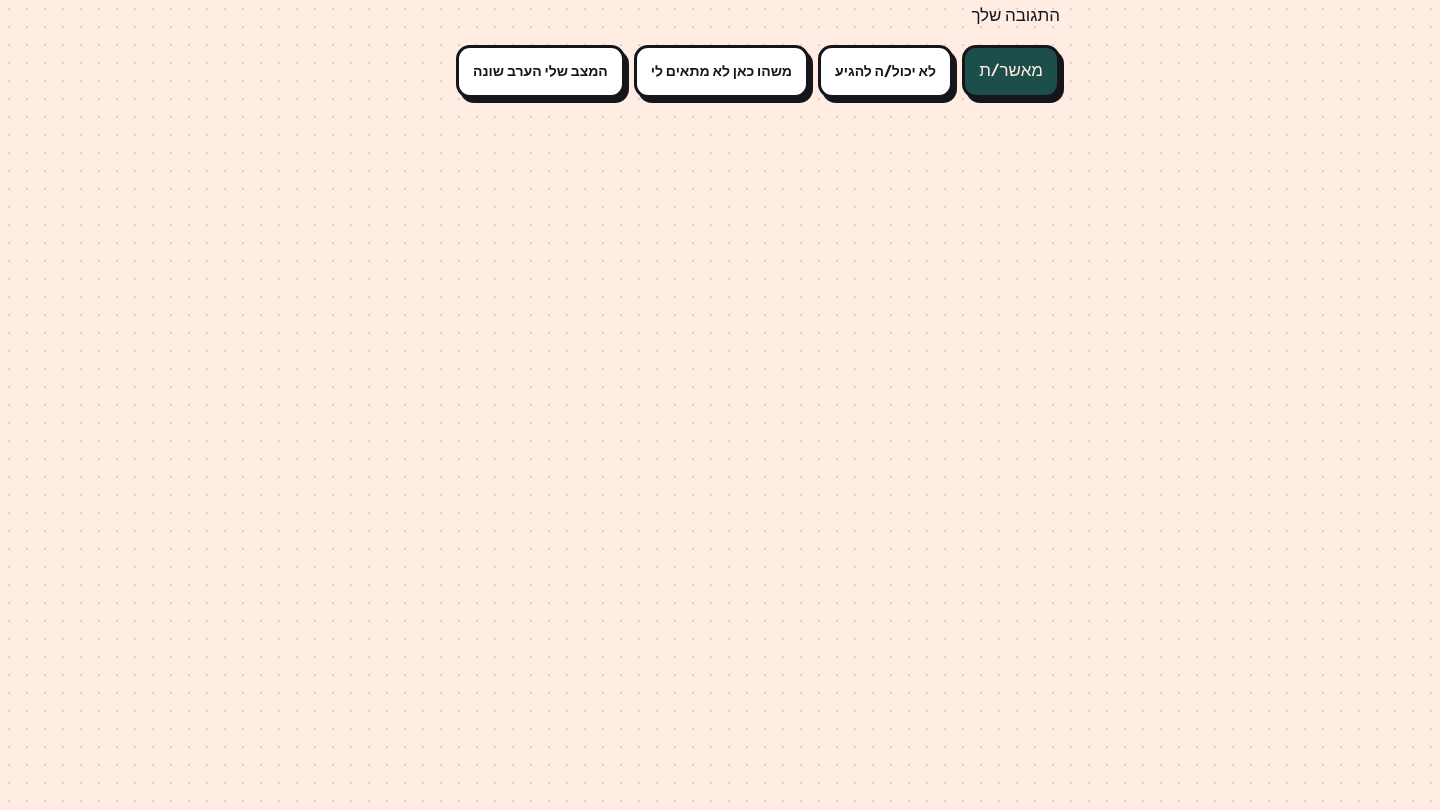
Scenario: not every style of place can be ruled out
Click the button "משהו כאן לא מתאים לי" at (721, 71), box [634,44,809,98]
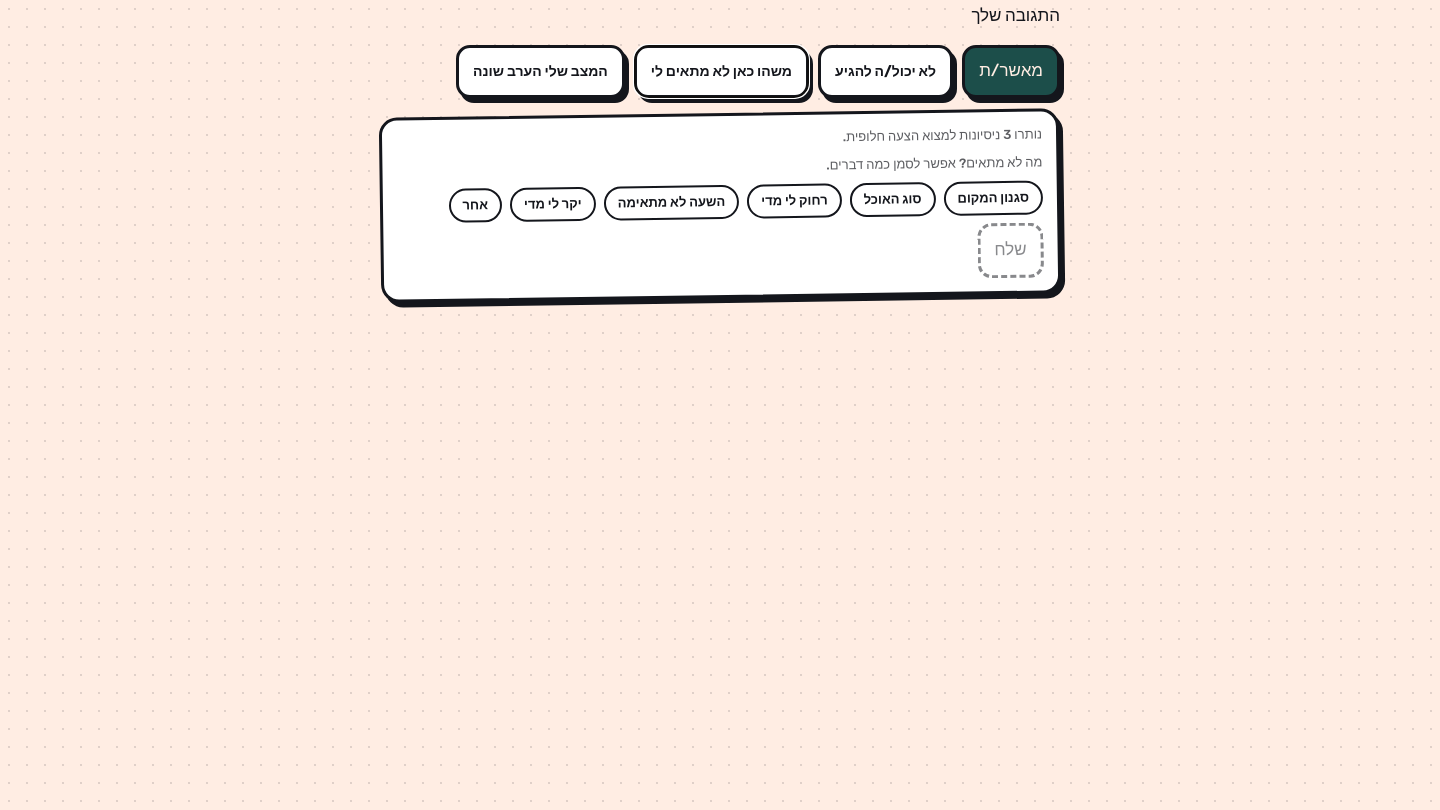
Click the button "סגנון המקום" at (993, 199), box [943,181,1043,216]
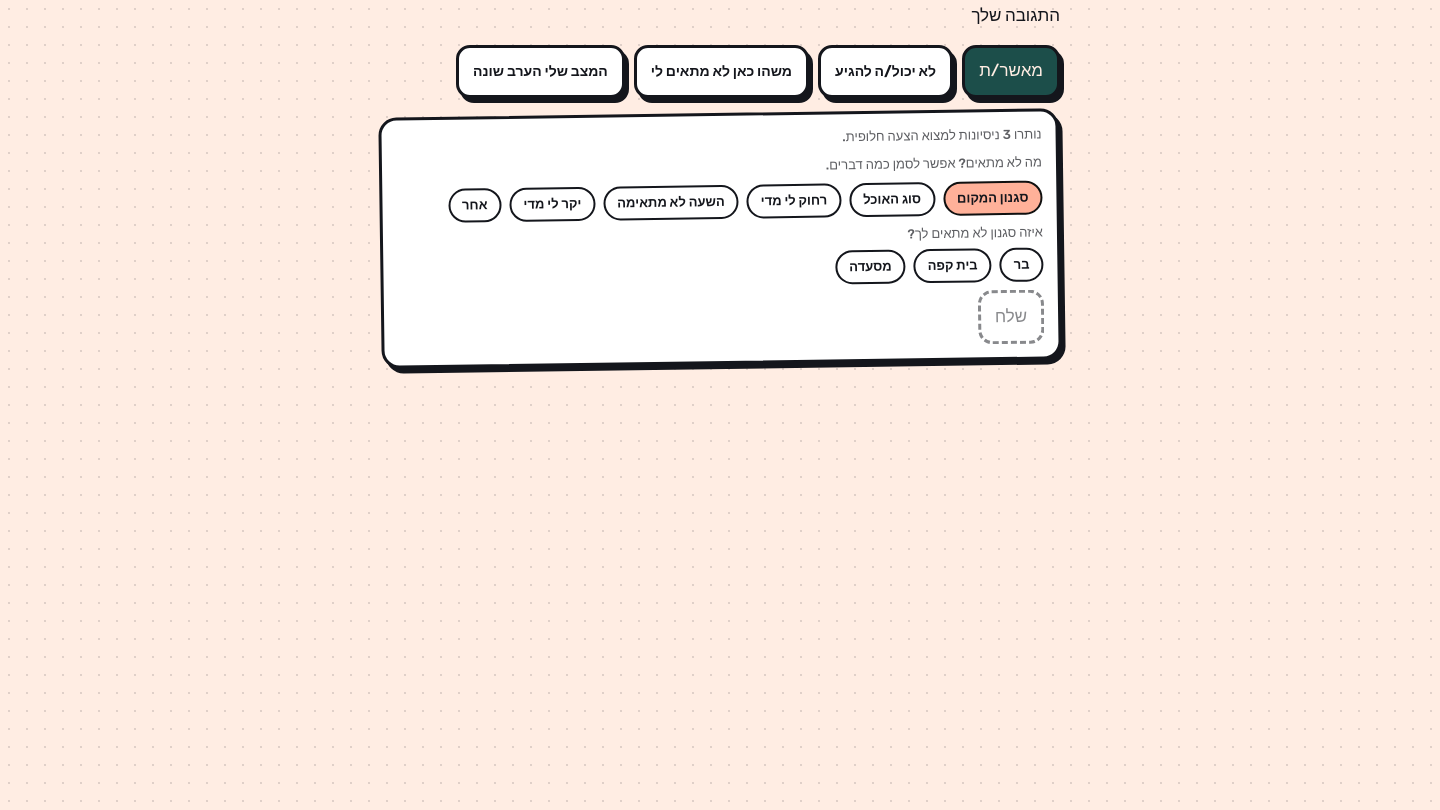
Click the button "בר" at (1021, 264), box [999,247,1044,282]
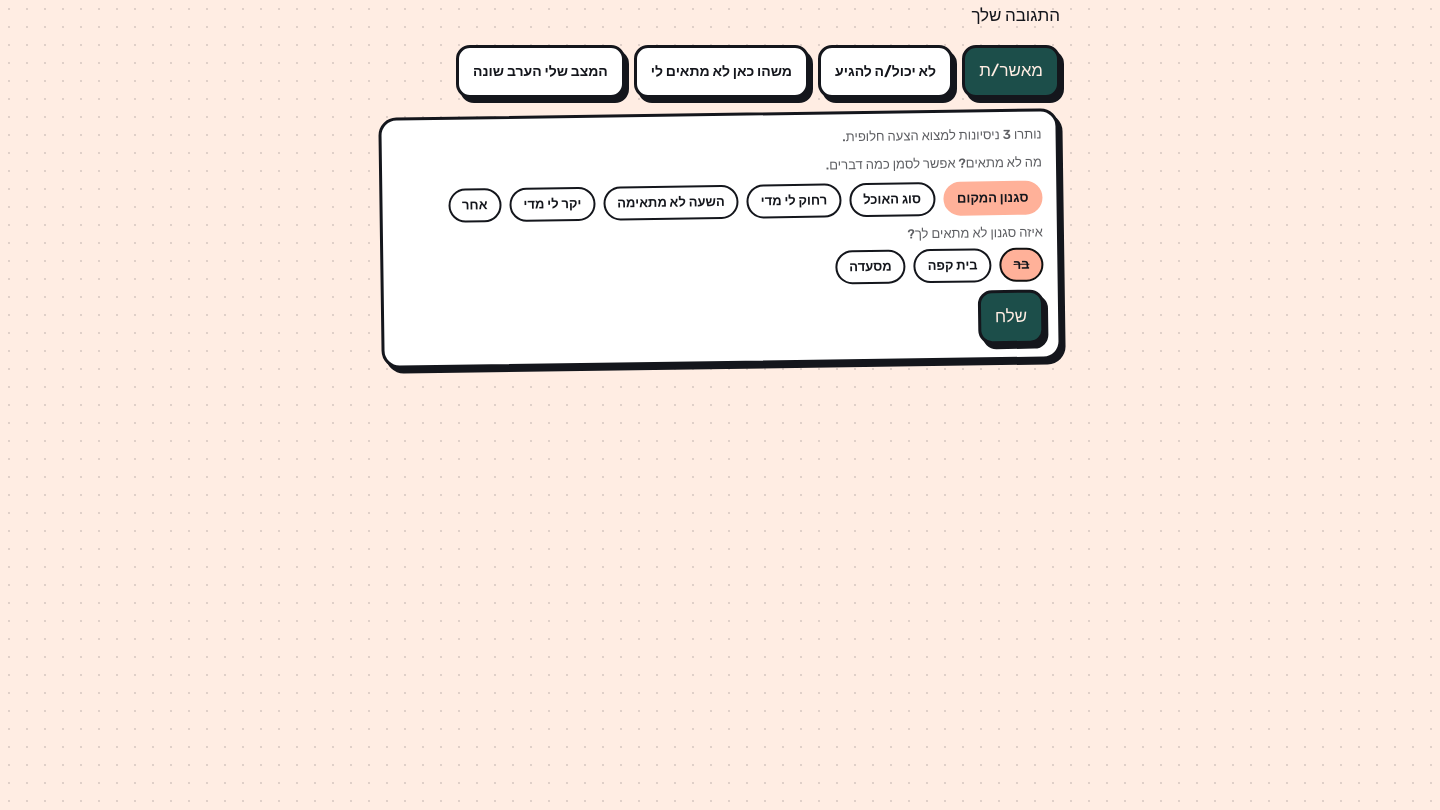
Click the button "בית קפה" at (953, 265), box [914,248,992,283]
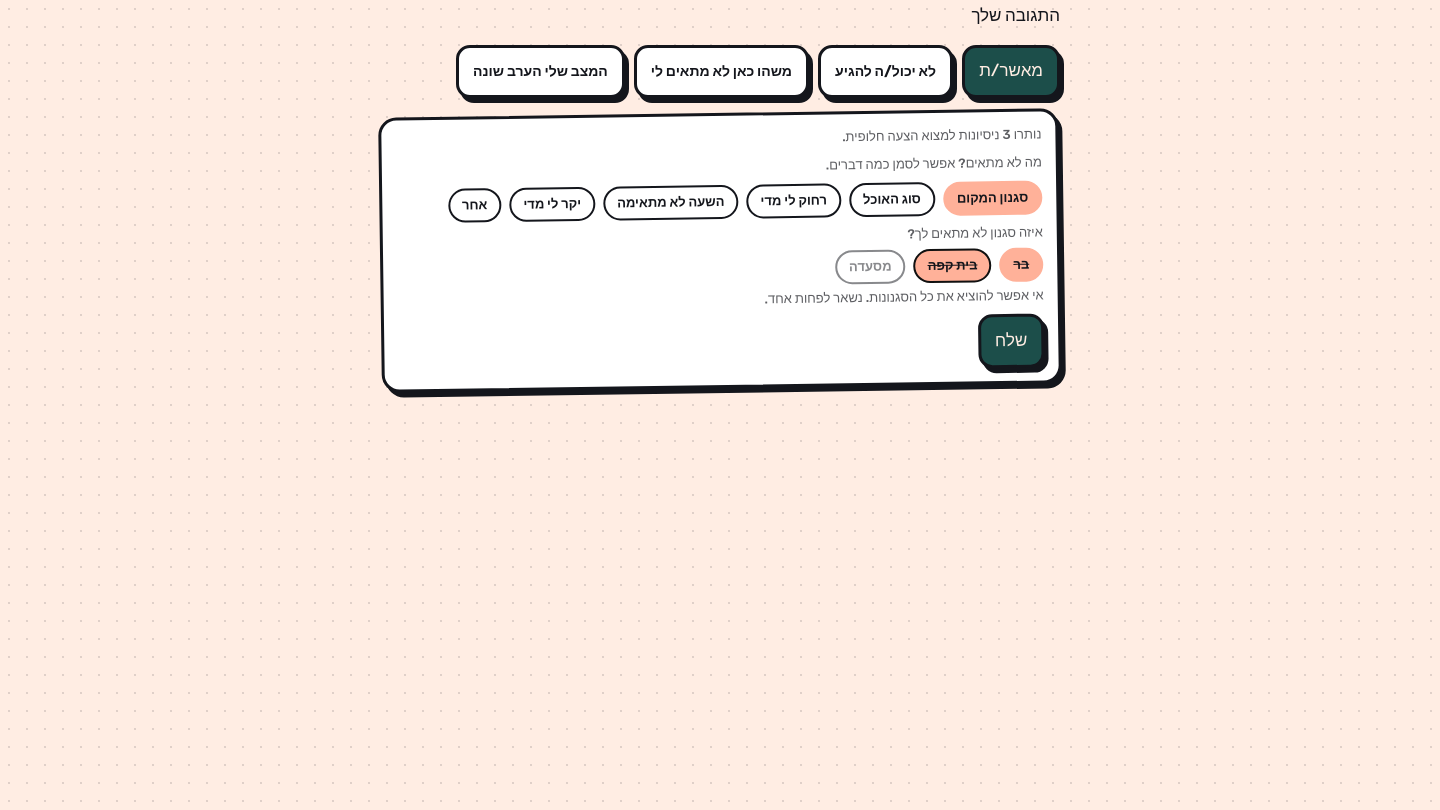
Now the button "בר" is enabled
Now the button "מסעדה" is disabled, box [835,249,906,284]
Click the button "בר" at (1021, 264), box [999,247,1044,282]
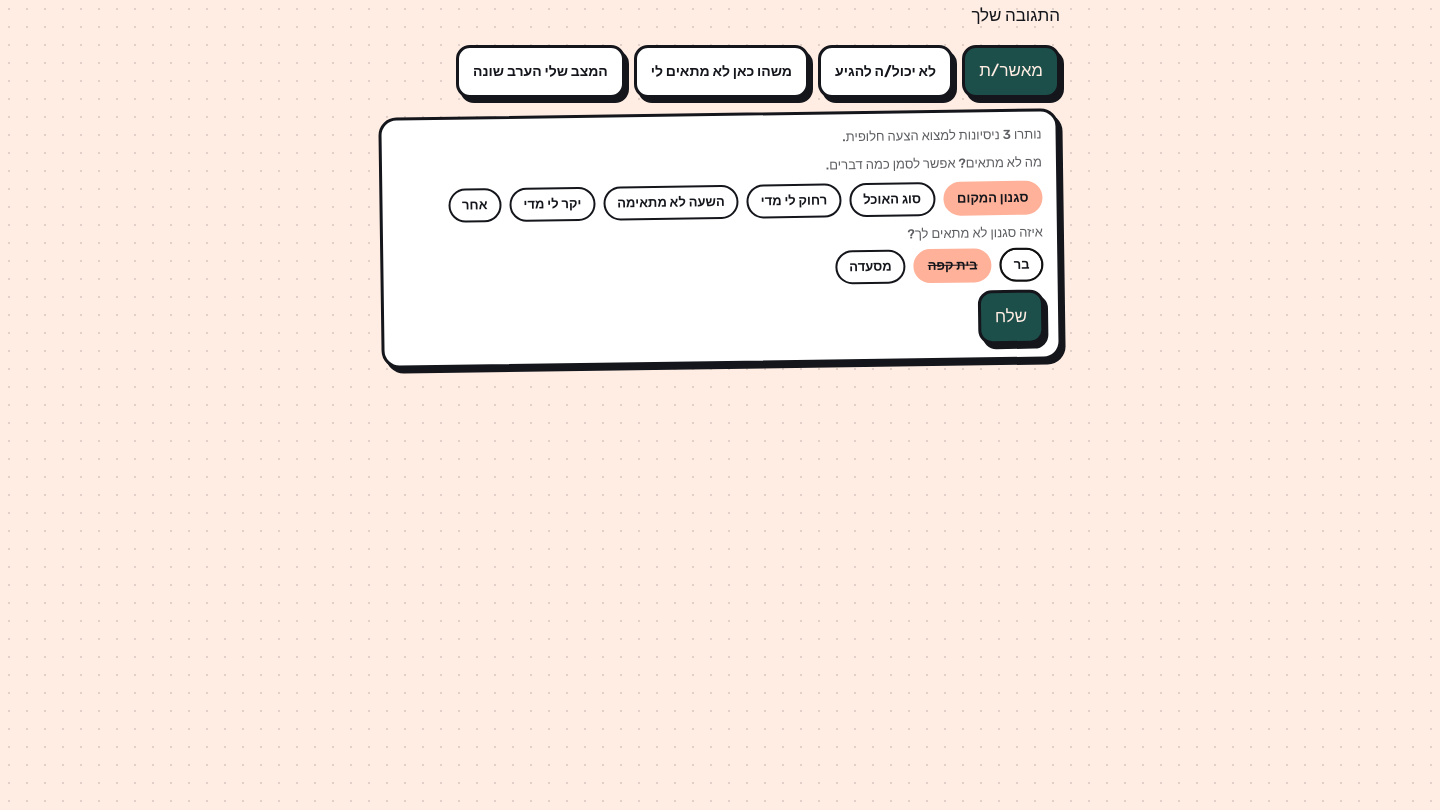
Now the button "מסעדה" is enabled, box [835,249,906,284]
